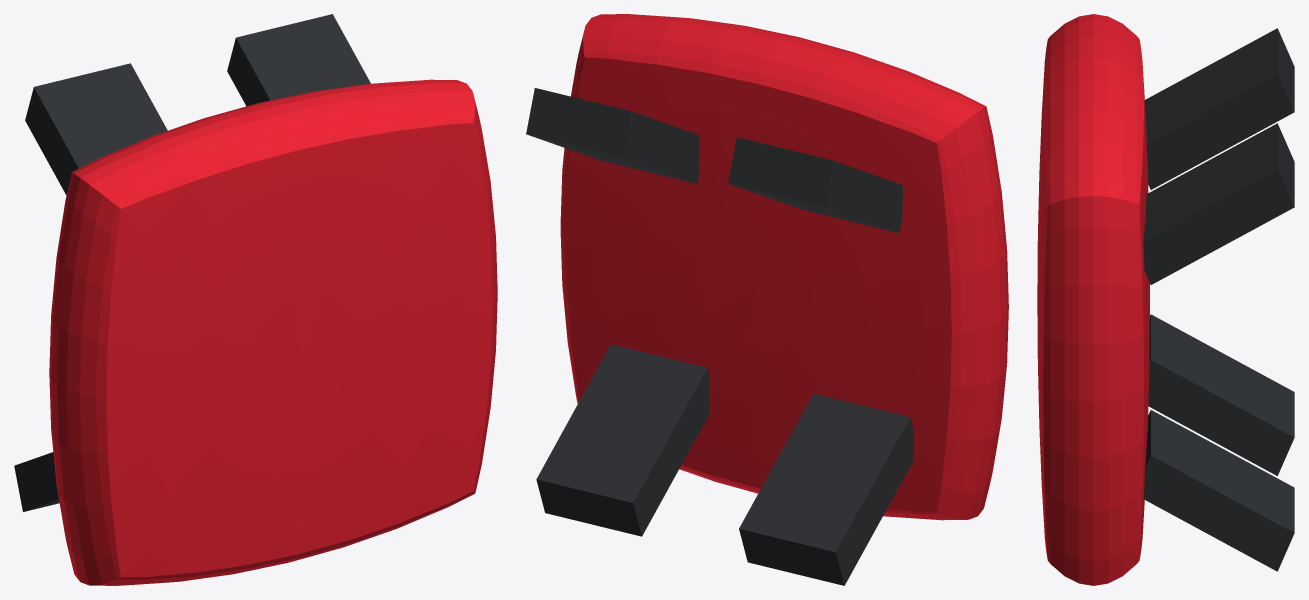
File: tinker.obj
3 renders of one model, left to right at view 1: azimuth 30°, elevation 25°; view 2: azimuth 150°, elevation 25°; view 3: azimuth 270°, elevation 25°, orthographic. The views are drawn at different scales.
Visible parts, largest first — view 1: group_0_15277357, group_0_2829873; view 2: group_0_15277357, group_0_2829873; view 3: group_0_15277357, group_0_2829873.
Part boxes in pixels (bbox=[...]): group_0_15277357: bbox=[49, 79, 497, 585]; group_0_2829873: bbox=[14, 14, 370, 511]; group_0_15277357: bbox=[560, 14, 1008, 520]; group_0_2829873: bbox=[526, 88, 914, 585]; group_0_15277357: bbox=[1037, 14, 1149, 585]; group_0_2829873: bbox=[1143, 28, 1294, 571].
Bounding box in the file's own units: 30.01 × 30 × 16.
